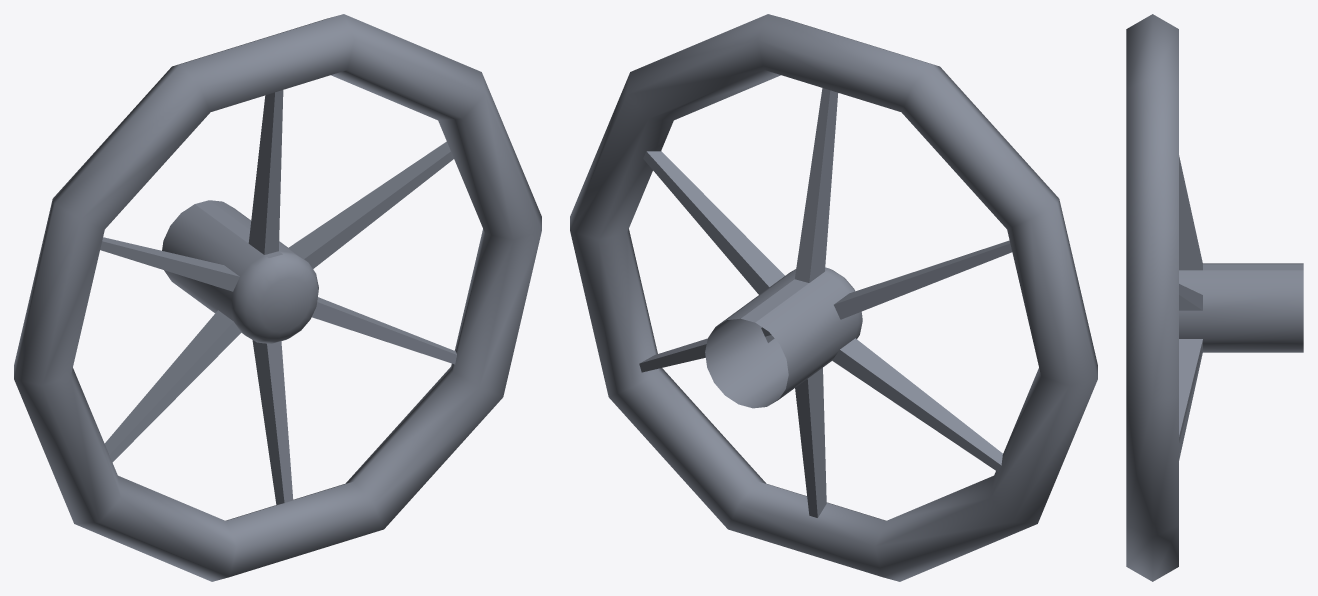
File: Pump@ValveTop.fbx
3 renders of one model, left to right at view 1: azimuth 30°, elevation 25°; view 2: azimuth 150°, elevation 25°; view 3: azimuth 270°, elevation 25°, orthographic. The views are drawn at different scales.
Parts seen in each view (by area): view 1: IsoValve_side_lp.007; view 2: IsoValve_side_lp.007; view 3: IsoValve_side_lp.007.
Boxes of the visible parts, <box> form: IsoValve_side_lp.007: <box>14,14,541,581</box>; IsoValve_side_lp.007: <box>570,14,1097,581</box>; IsoValve_side_lp.007: <box>1126,14,1303,581</box>.
Bounding box in the file's own units: 0.3096 × 0.3004 × 0.0967.
